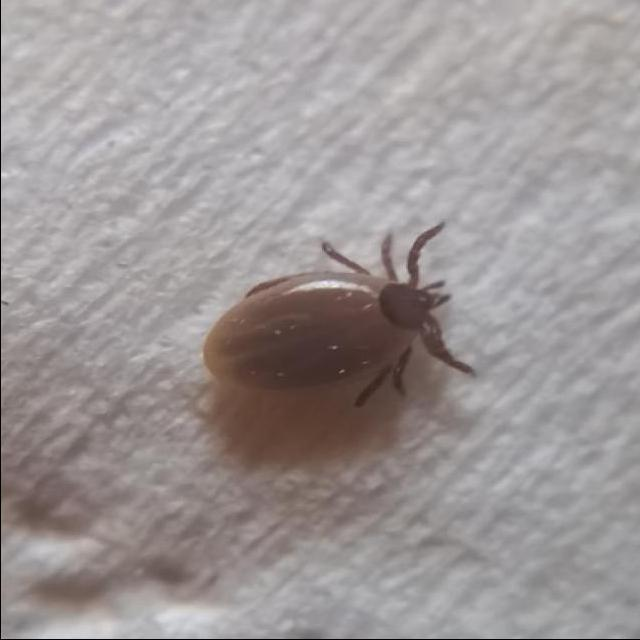Ixodes Ricinus-F-Fed: (199, 225, 473, 410)
